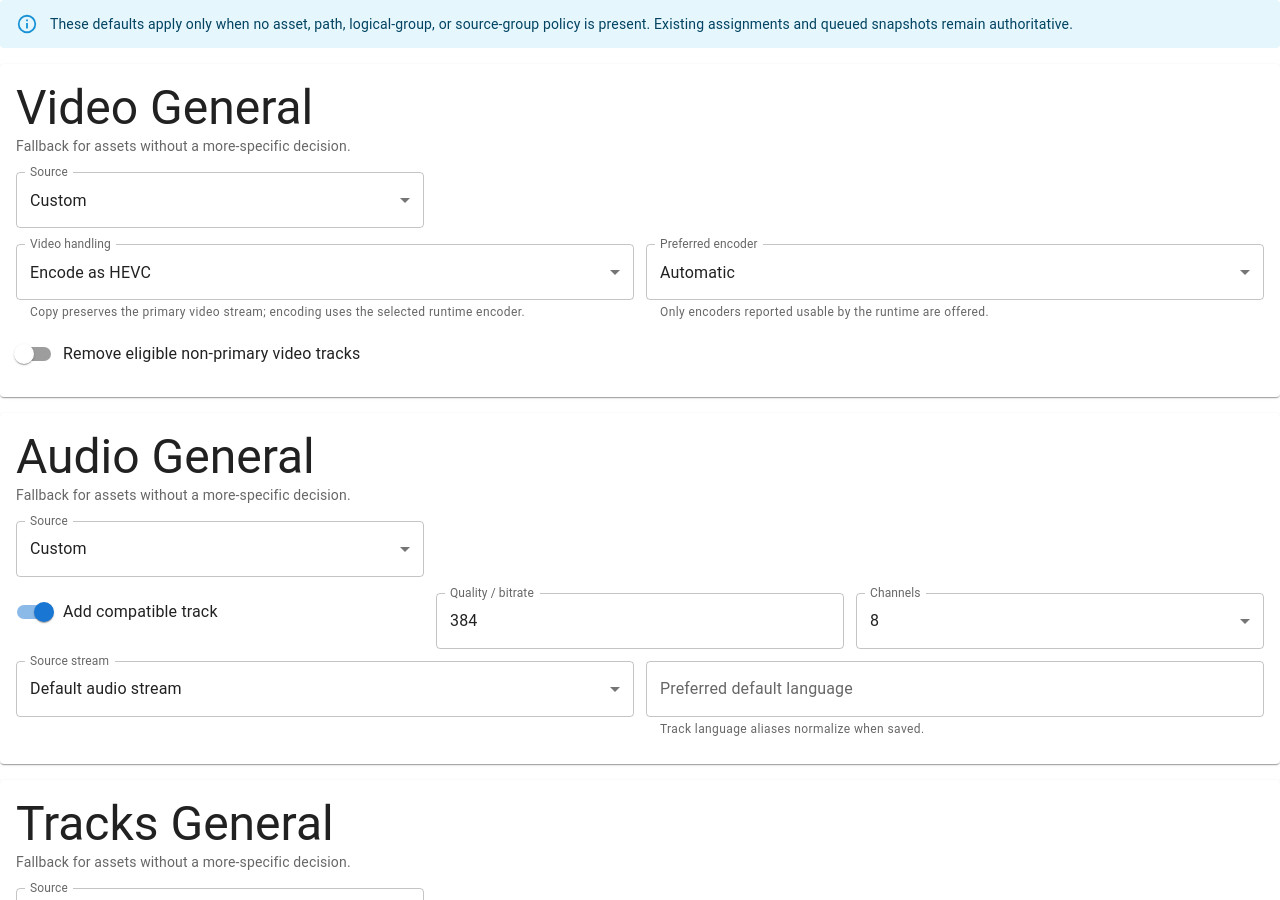
Test: AssetDefaultsCard › preserves non-default compatible track values across an off/on toggle
Expected: the number field labelled "Quality / bitrate" holds "384", [436,593,844,649]
Expected: the dropdown named "Channels" reads "8", [870,612,879,630]
Click the switch labelled "Add compatible track": (117, 612) [17,602,218,622]
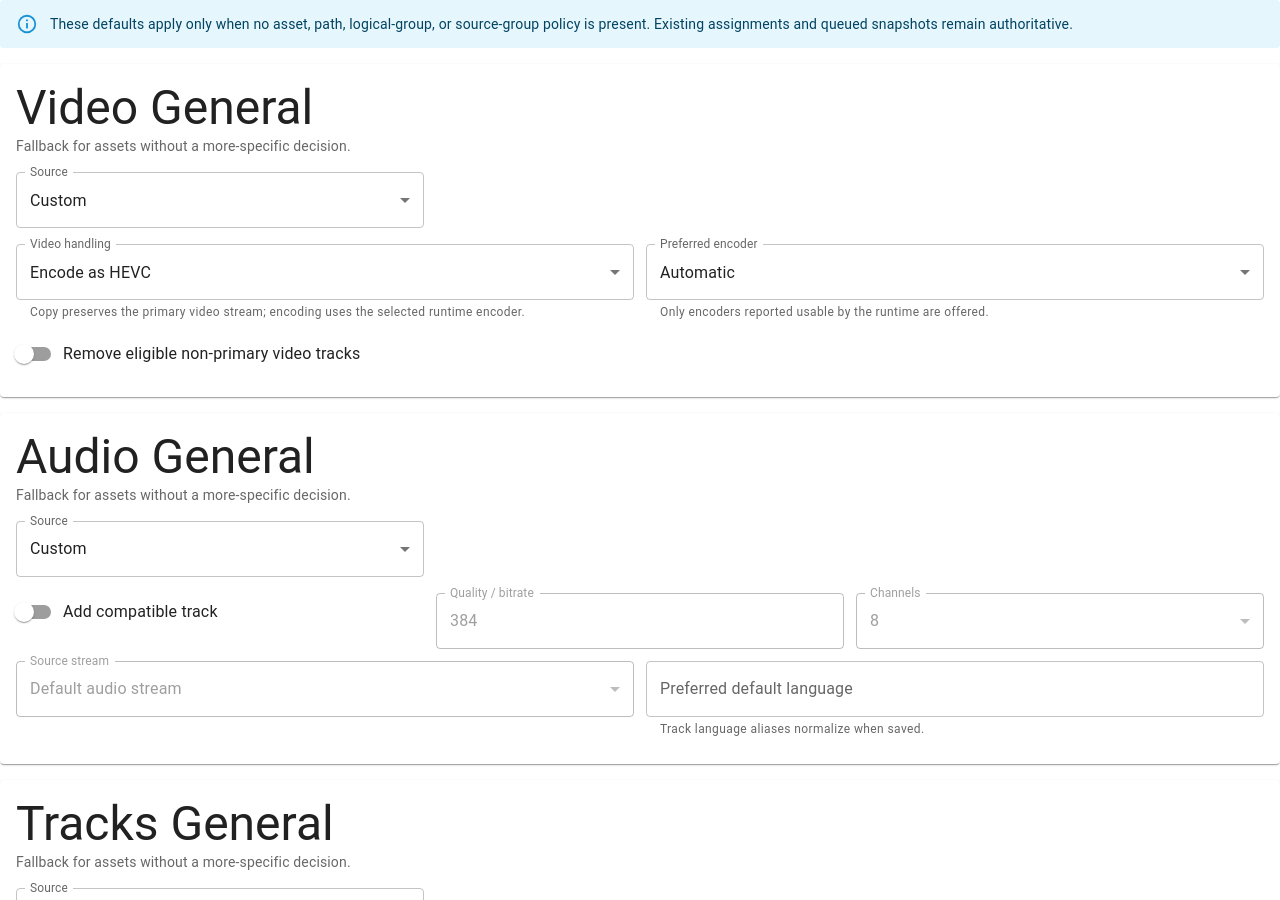
Expected: the number field labelled "Quality / bitrate" holds "384", [436,593,844,649]
Expected: the number field labelled "Quality / bitrate" is disabled, [436,593,844,649]
Click the switch labelled "Add compatible track": (116, 612) [14,602,218,622]
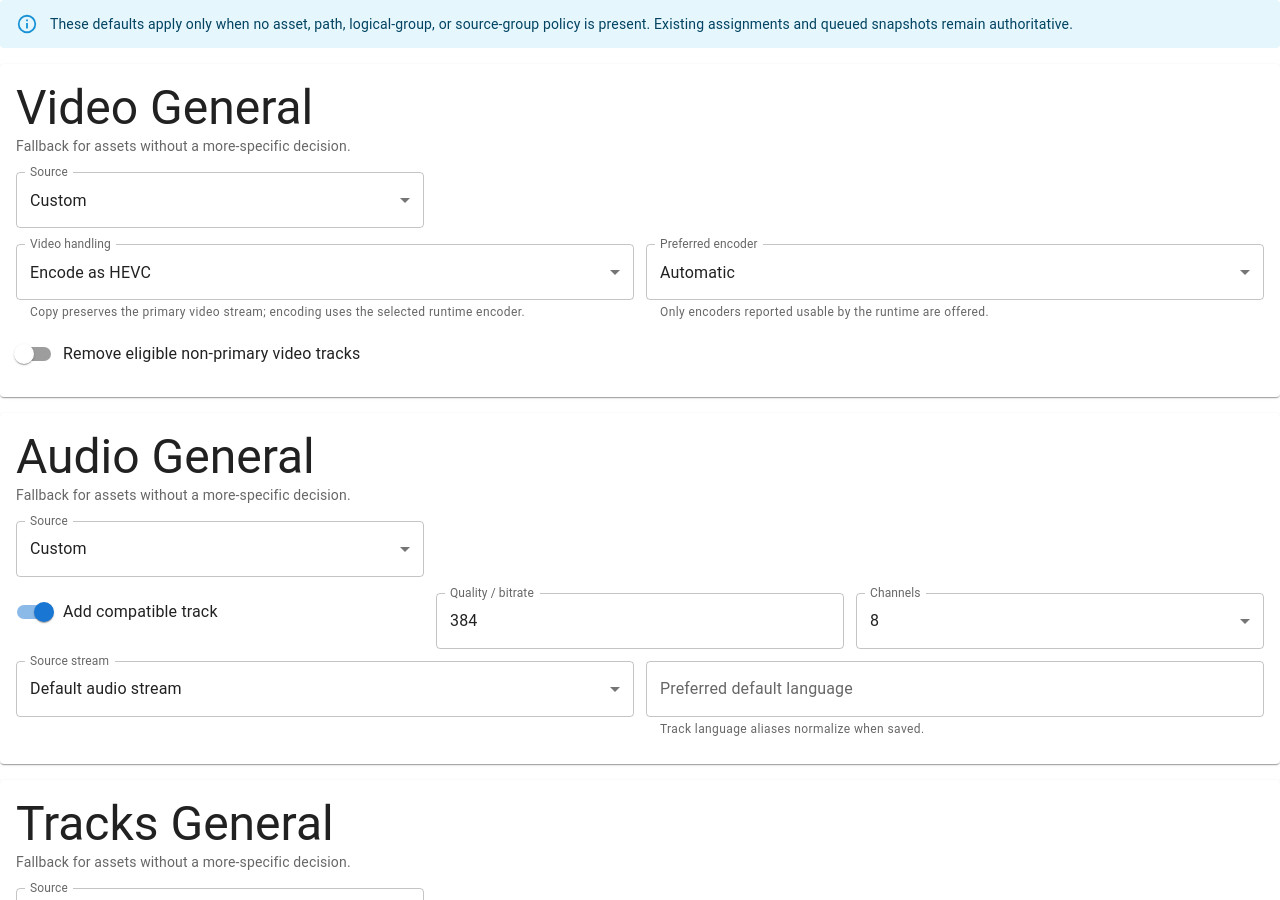
Expected: the number field labelled "Quality / bitrate" holds "384", [436,593,844,649]
Expected: the number field labelled "Quality / bitrate" is enabled, [436,593,844,649]
